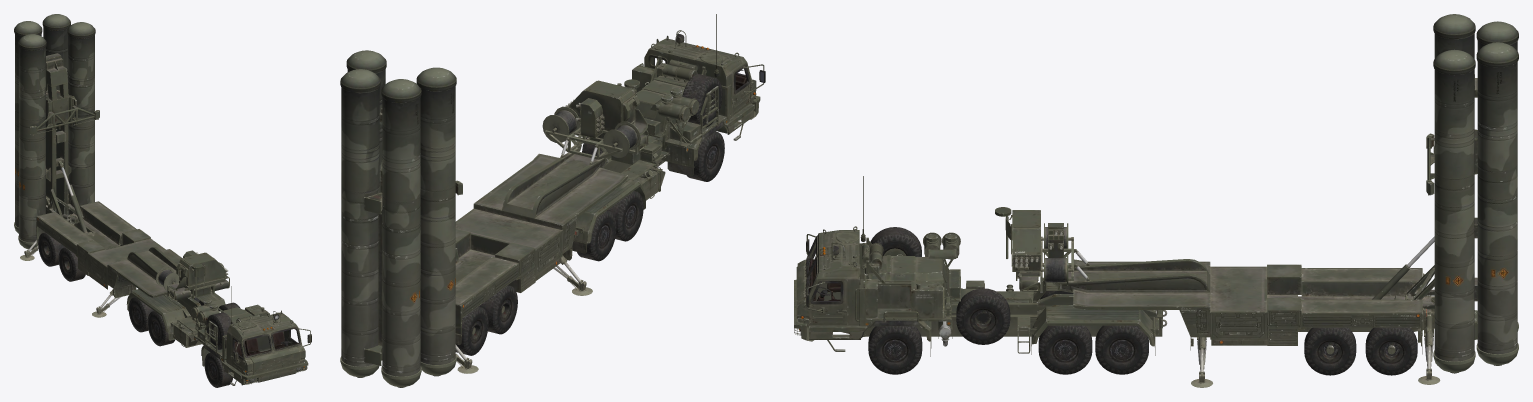
3 renders of one model, left to right at view 1: azimuth 30°, elevation 25°; view 2: azimuth 150°, elevation 25°; view 3: azimuth 270°, elevation 25°, orthographic. The views are drawn at different scales.
Visible parts, largest first — view 1: SM_S400_VarA_01_01_Rockets_4.001, SM_S400_VarA_01_01_Truck_1.001; view 2: SM_S400_VarA_01_01_Rockets_4.001, SM_S400_VarA_01_01_Truck_1.001; view 3: SM_S400_VarA_01_01_Rockets_4.001, SM_S400_VarA_01_01_Truck_1.001.
Part boxes in pixels (x1,y1,x2,y2): SM_S400_VarA_01_01_Rockets_4.001: (14,14,229,317); SM_S400_VarA_01_01_Truck_1.001: (126,286,311,387); SM_S400_VarA_01_01_Rockets_4.001: (340,50,648,387); SM_S400_VarA_01_01_Truck_1.001: (572,14,765,261); SM_S400_VarA_01_01_Rockets_4.001: (995,14,1518,387); SM_S400_VarA_01_01_Truck_1.001: (794,176,1167,374).
Bounding box in the file's own units: 420 × 876 × 1814.
Materials: 2 (2 with a texture image).
